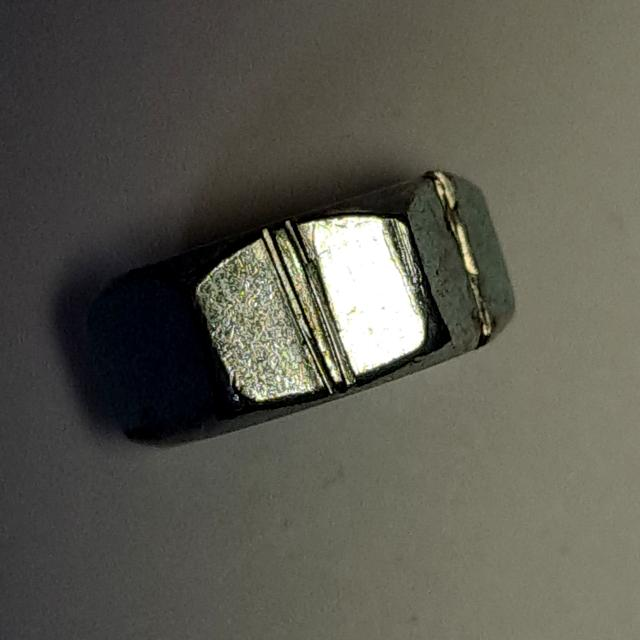Side_Scratches: (76, 156, 530, 461)
